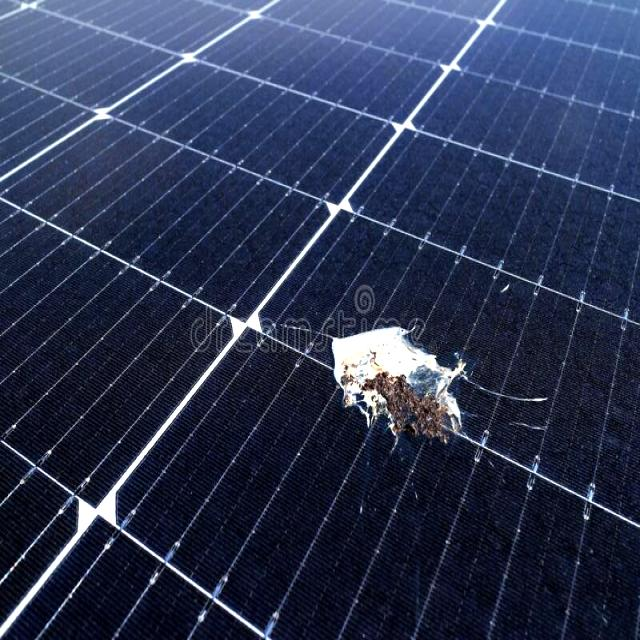bird: (306, 302, 542, 456)
